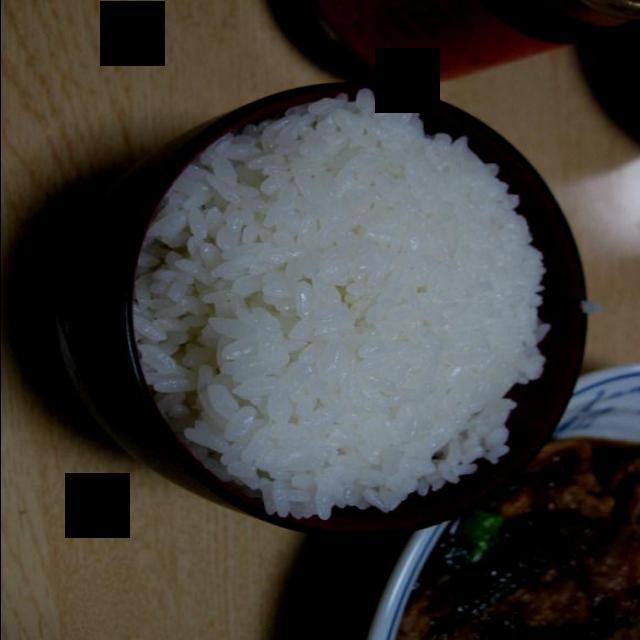rice: (132, 90, 554, 521)
